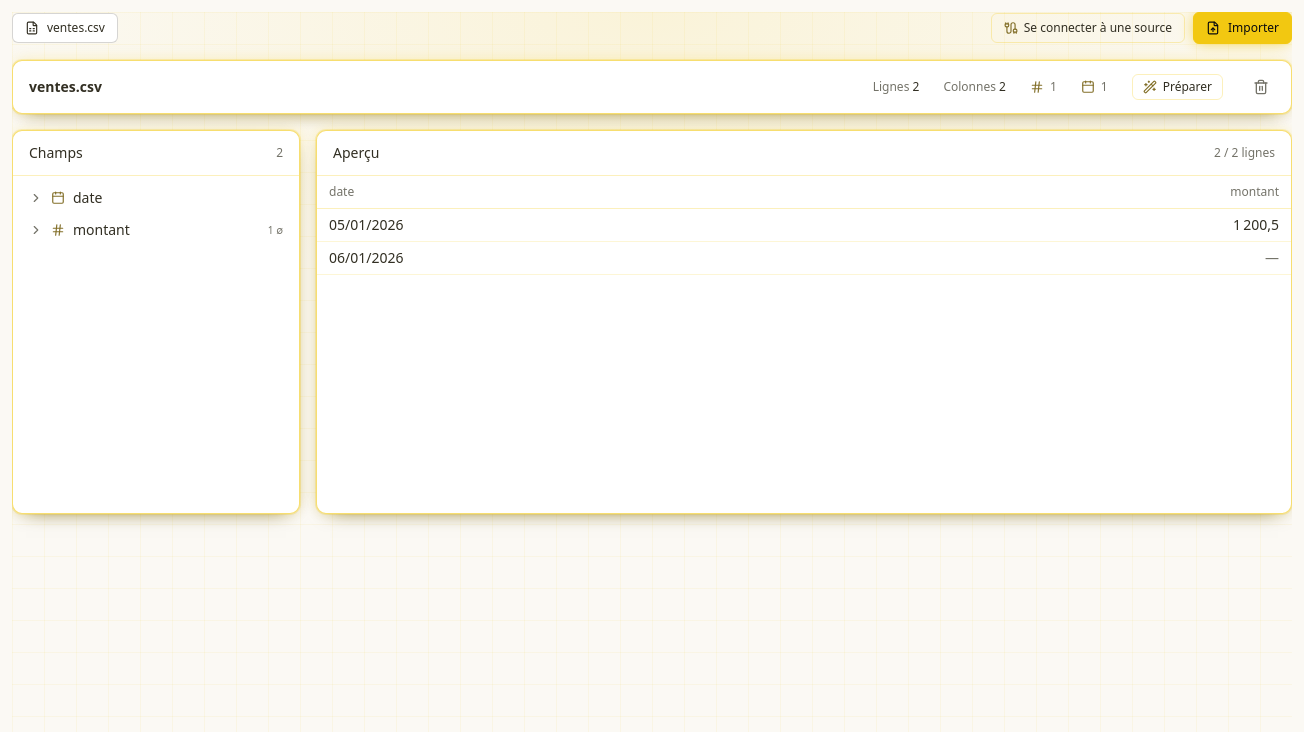
Test case: DataView › liste les champs et déplie leurs statistiques
Click the button "montant 1 ∅" at (101, 230), box [19,214,293,246]
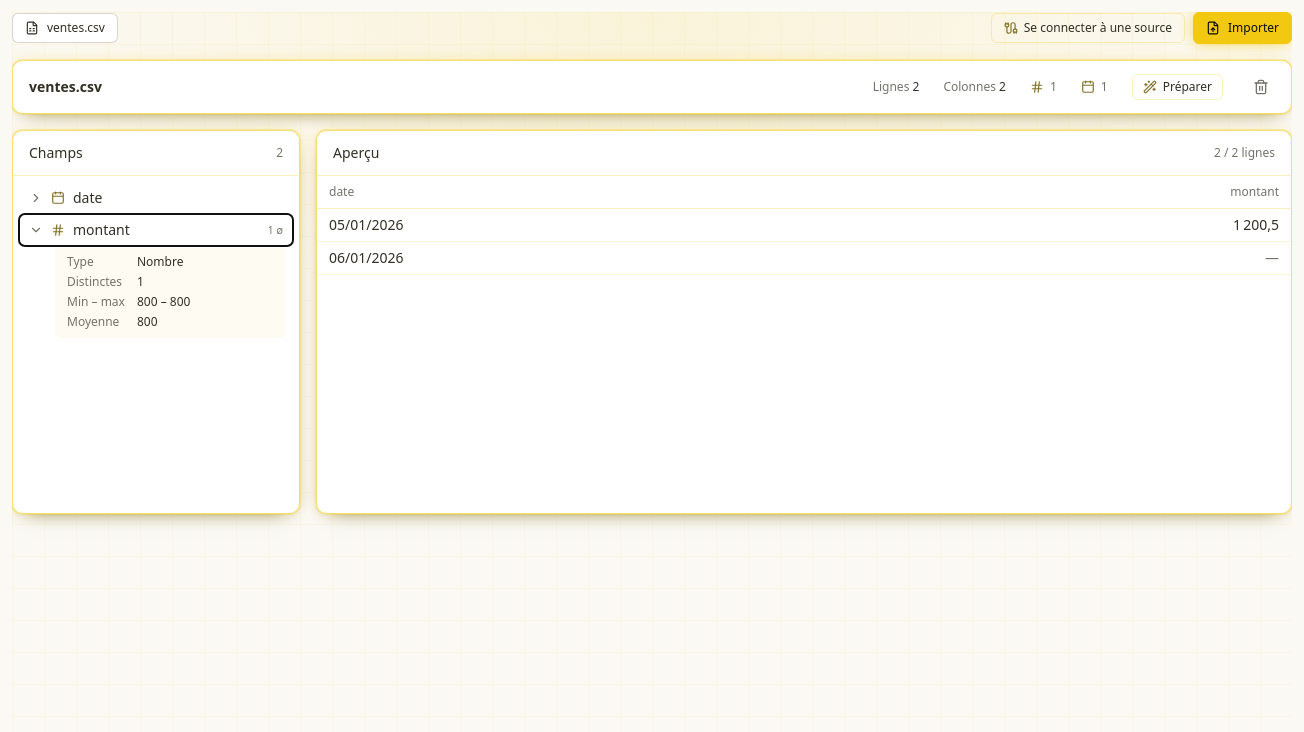
Check: the text "1 ∅" is shown, box [268,223,283,237]
Check: the text "Moyenne" is shown, box [67,314,125,330]
